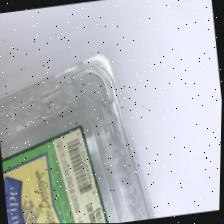plastic: (0, 55, 157, 224)
